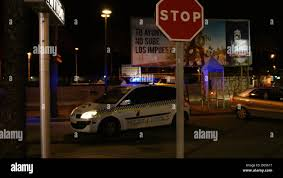stop sign: (155, 1, 204, 41)
